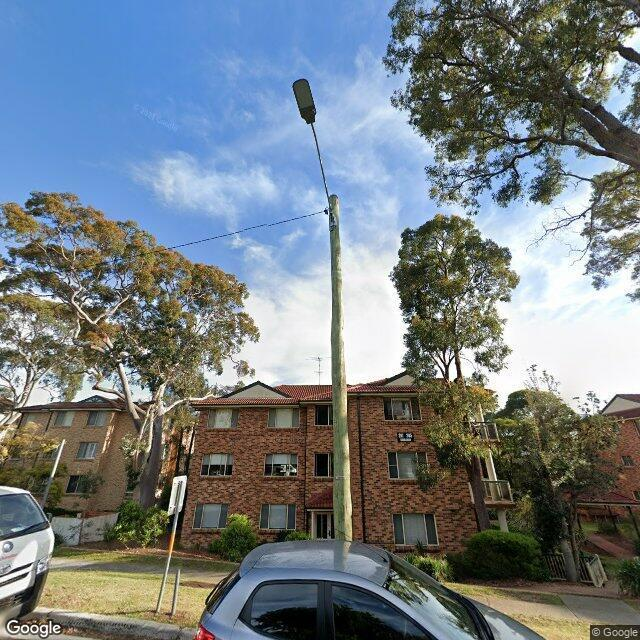streetlight: (291, 79, 335, 228)
timber-pole: (329, 194, 352, 543)
